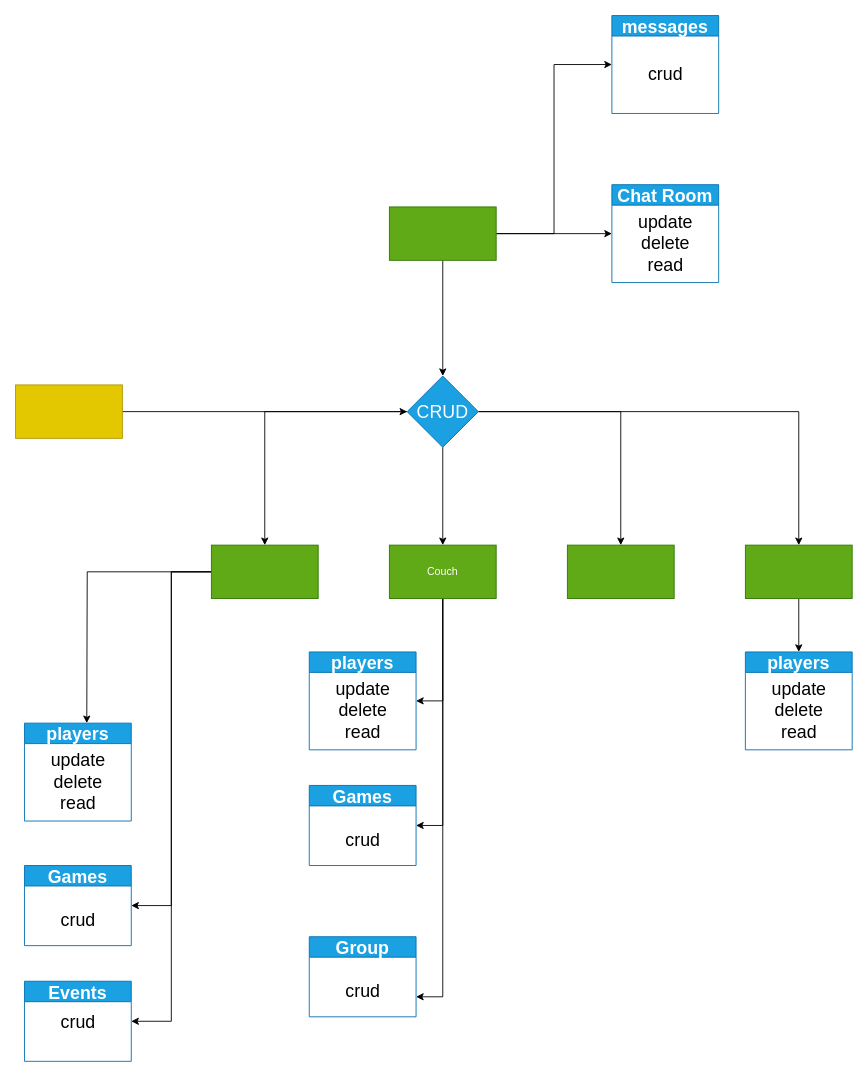
This 868x1077 diagram has some shape labels left out. Each missing label, with the centre of its shape:
"Admin" belongs at (68,411).
"Parent" belongs at (798,571).
"Player" belongs at (620,571).
"Team Mom" belongs at (264,571).
"User" belongs at (442,233).
